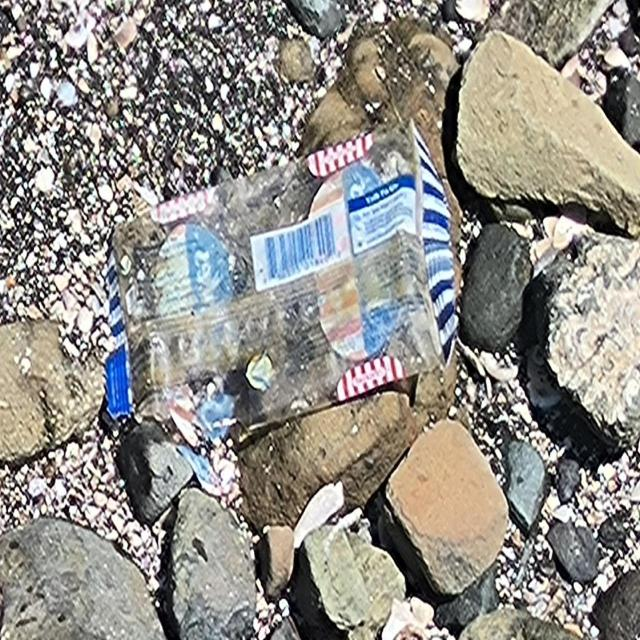plastic_waste: (104, 115, 462, 445)
